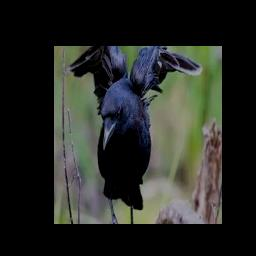Crow: (68, 46, 203, 224)
